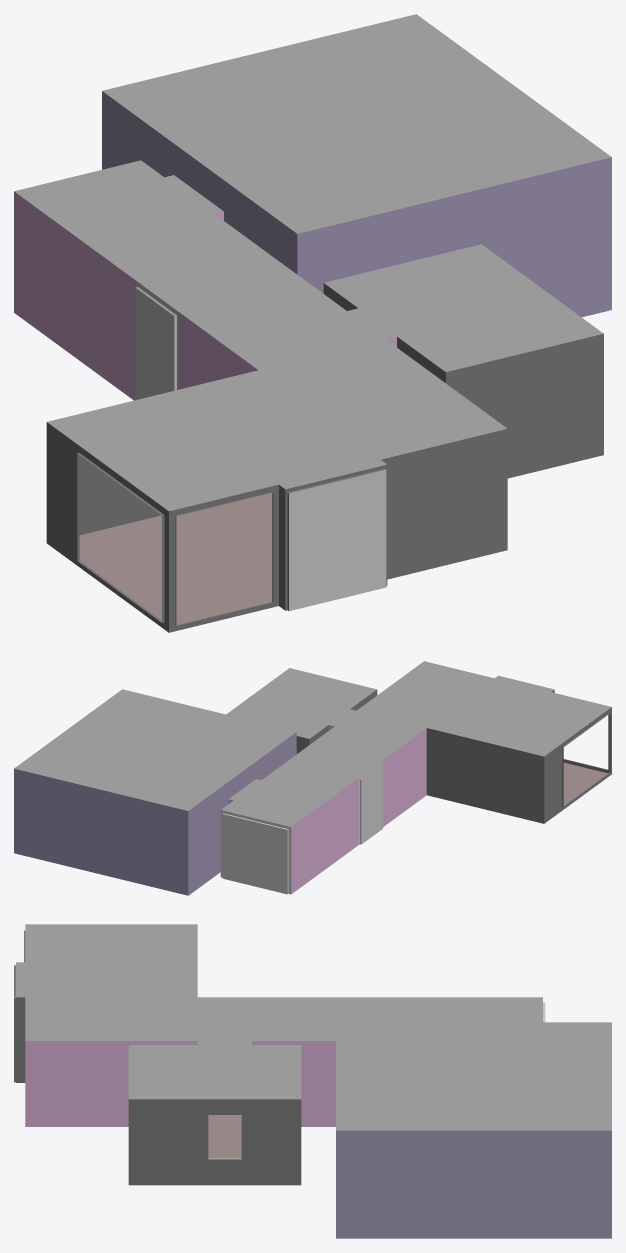
Rendered from Ambient_1.fbx.
3 views of the same model, one above another, from view 1: azimuth 30°, elevation 25°; view 2: azimuth 150°, elevation 25°; view 3: azimuth 270°, elevation 25° (orthographic). The views are drawn at different scales.
Visible parts, largest first — view 1: pCube4; view 2: pCube4; view 3: pCube4.
Part boxes in pixels (box(x1,y1,x2,y2)): pCube4: box(14, 14, 611, 632); pCube4: box(14, 661, 611, 895); pCube4: box(14, 924, 611, 1238).
Size of the model in its own units: 15.71 by 3.45 by 17.32.
